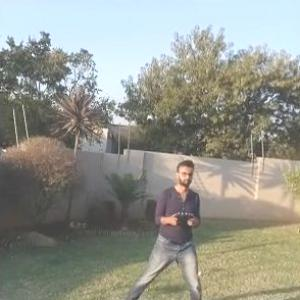follow: (124, 155, 203, 299)
